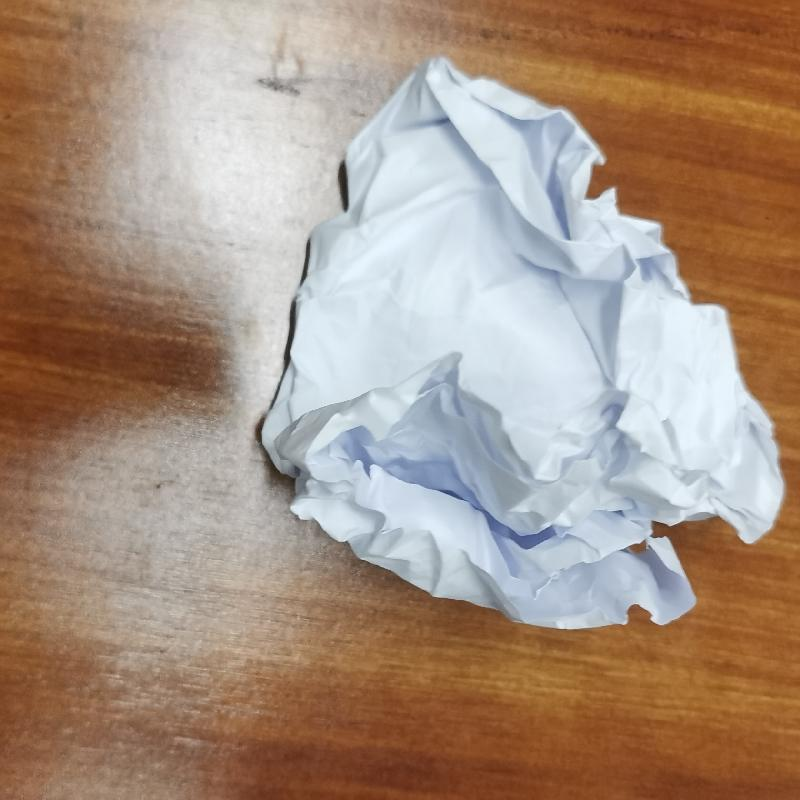spitball: (250, 54, 798, 635)
